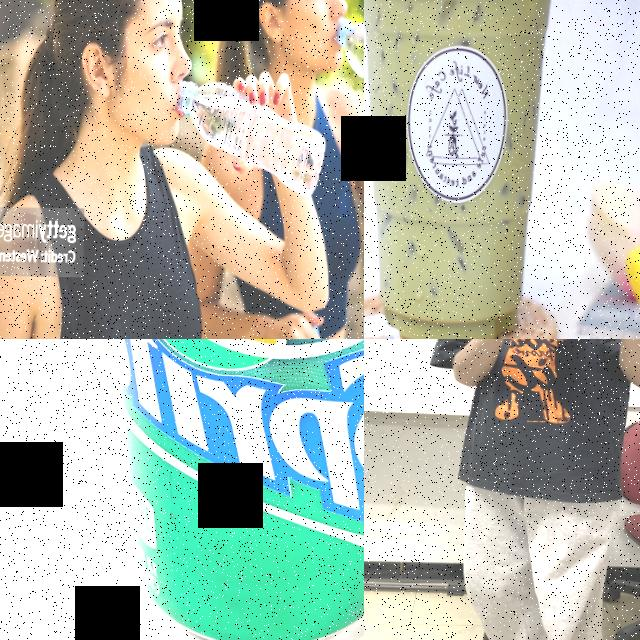bottle: (168, 70, 326, 196), (305, 19, 364, 140)
can: (88, 339, 364, 640)
cup: (364, 0, 571, 339)
